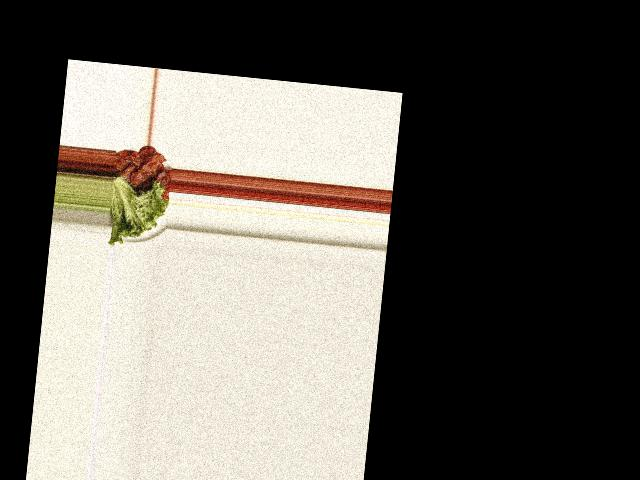lettuce: (105, 176, 169, 247)
